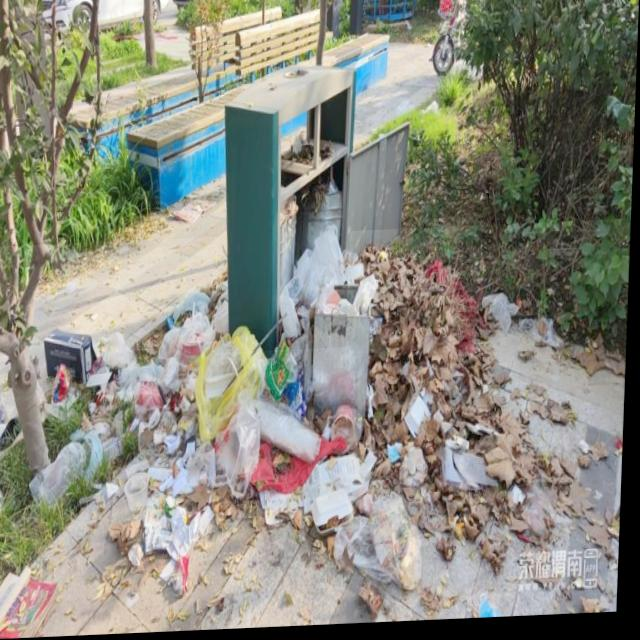garbage: (0, 225, 632, 639)
garbage_bin: (217, 63, 357, 356)
